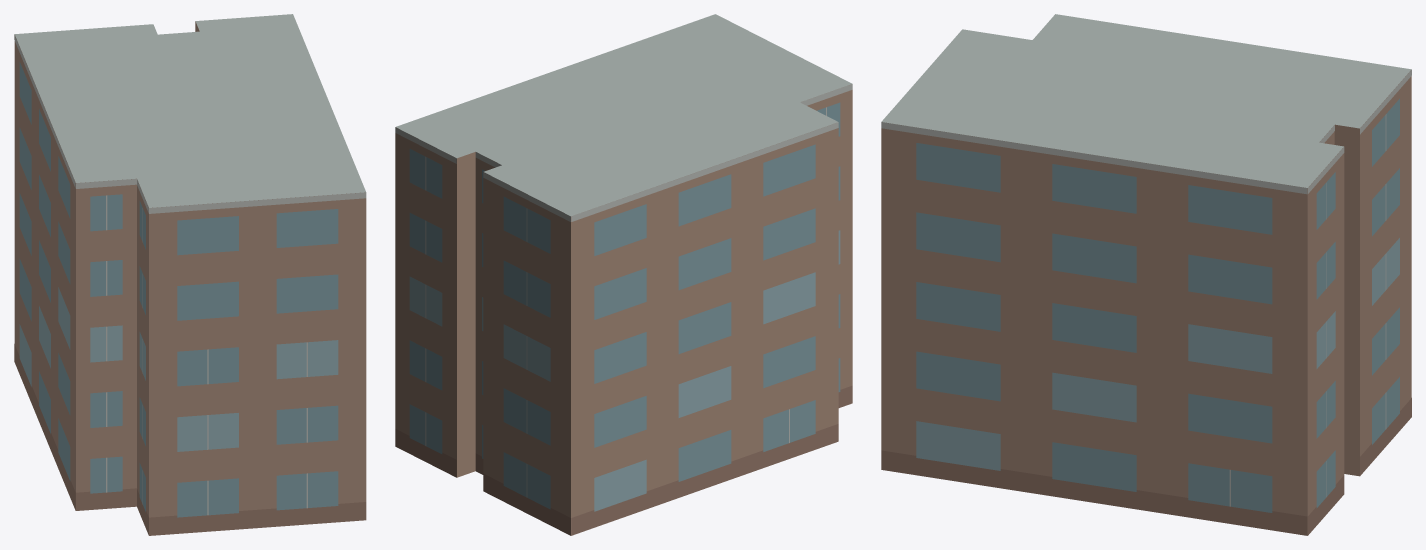
Rendered from survey-upis-32552808.glb.
The picture shows the model from 3 angles, left to right: view 1: azimuth 30°, elevation 25°; view 2: azimuth 150°, elevation 25°; view 3: azimuth 270°, elevation 25°; orthographic projection. The views are drawn at different scales.
Visible parts, largest first — view 1: survey-upis-32552808.tmp; view 2: survey-upis-32552808.tmp; view 3: survey-upis-32552808.tmp.
Boxes of the visible parts, x1=… form: survey-upis-32552808.tmp: x1=14, y1=14, x2=366, y2=535; survey-upis-32552808.tmp: x1=395, y1=14, x2=852, y2=535; survey-upis-32552808.tmp: x1=881, y1=14, x2=1411, y2=535.
Size of the model in its own units: 14.39 by 13.4 by 18.53.
